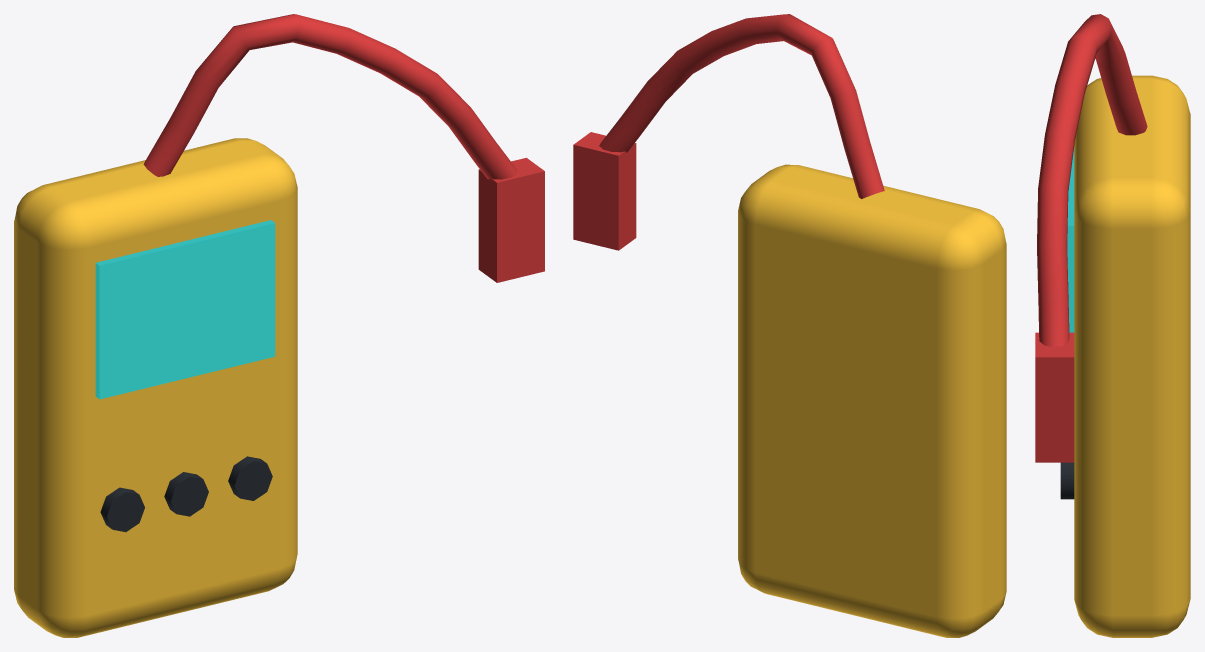
The model's file is signal-tester.glb.
3 views of the same model, side by side, from view 1: azimuth 30°, elevation 25°; view 2: azimuth 150°, elevation 25°; view 3: azimuth 270°, elevation 25° (orthographic). The views are drawn at different scales.
Parts seen in each view (by area): view 1: signal-tester-hazard-yellow, tester_screen, signal-tester-signal-red, clip-jaw, signal-tester-dark-polymer; view 2: signal-tester-hazard-yellow, signal-tester-signal-red, clip-jaw; view 3: signal-tester-hazard-yellow, signal-tester-signal-red, clip-jaw, tester_screen, signal-tester-dark-polymer.
Part boxes in pixels (x1,y1,x2,y2): signal-tester-hazard-yellow: (14, 138, 297, 637); tester_screen: (95, 220, 275, 399); signal-tester-signal-red: (143, 14, 517, 179); clip-jaw: (478, 157, 544, 282); signal-tester-dark-polymer: (100, 456, 272, 532); signal-tester-hazard-yellow: (738, 164, 1006, 637); signal-tester-signal-red: (599, 14, 884, 198); clip-jaw: (573, 132, 636, 250); signal-tester-hazard-yellow: (1074, 75, 1190, 637); signal-tester-signal-red: (1037, 14, 1147, 347); clip-jaw: (1035, 332, 1074, 462); tester_screen: (1067, 147, 1074, 332); signal-tester-dark-polymer: (1060, 462, 1074, 499).
Bounding box in the file's own units: 0.295 × 0.3471 × 0.08.
